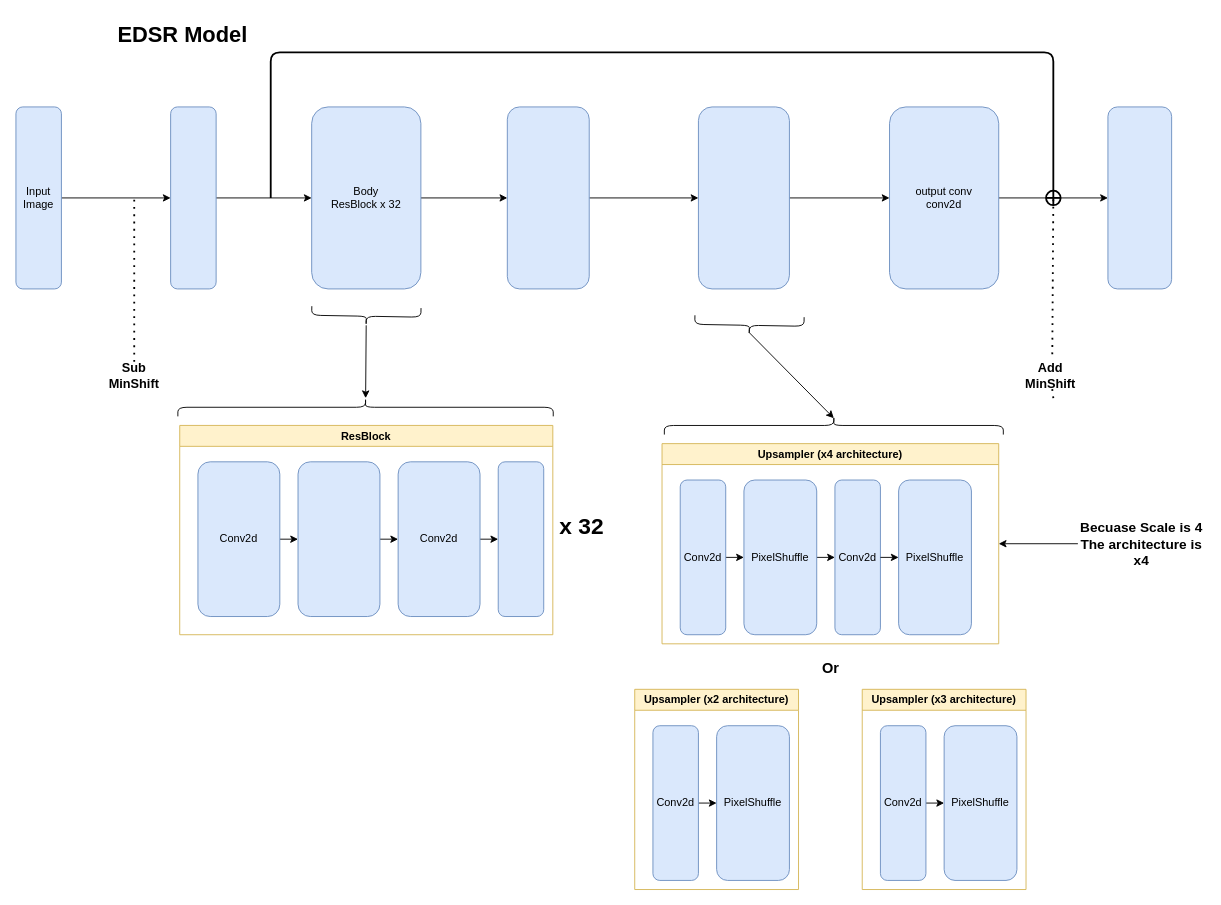
This 1221x905 diagram has some shape labels left out. The shapes that lost their labels are listed below. From the top down, each one's centre as x and y in pixels, then its label:
At (x=193, y=197): "Head Conv2d".
At (x=547, y=197): "Tail Conv2d".
At (x=743, y=197): "Upsampler".
At (x=1139, y=197): "Output Image".
At (x=338, y=539): "Relu".
At (x=520, y=539): "Mult".
